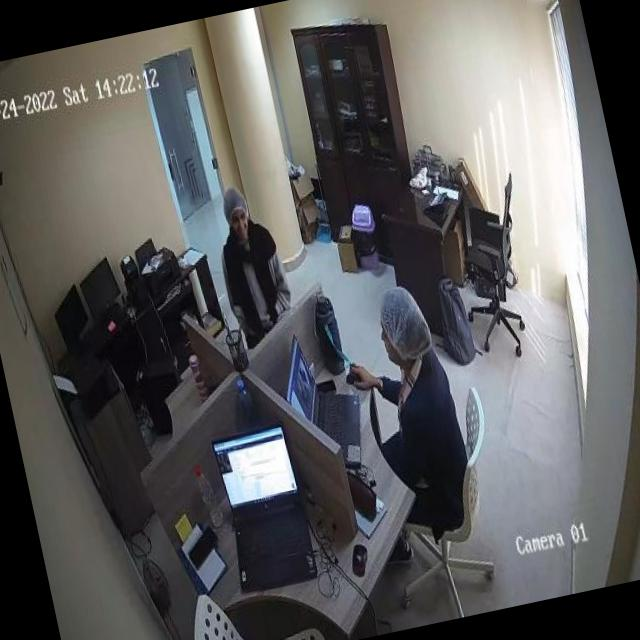hairnet: (376, 280, 432, 357), (215, 182, 250, 224)
